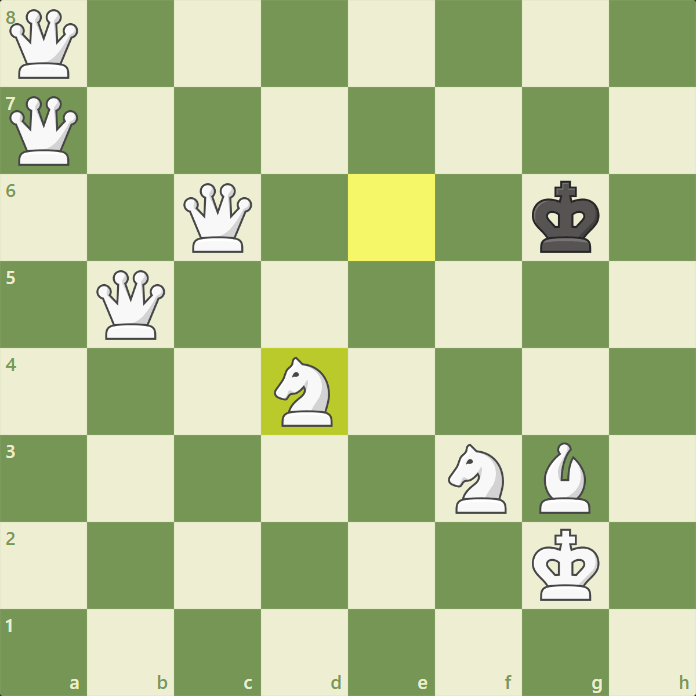B: (537, 440, 593, 517)
K: (529, 526, 603, 603)
N: (448, 442, 511, 517), (273, 355, 335, 430)
Q: (181, 181, 256, 256), (92, 267, 167, 342), (4, 93, 79, 168), (4, 7, 79, 82)
k: (528, 178, 601, 256)
